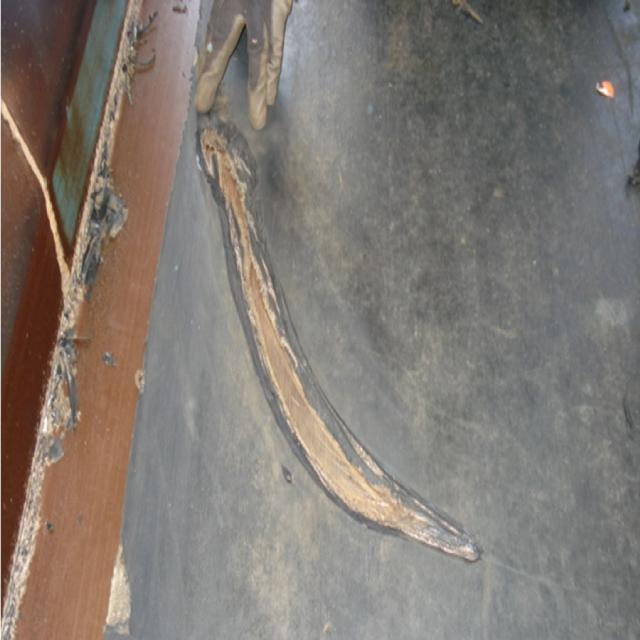Wear: (193, 120, 484, 566)
